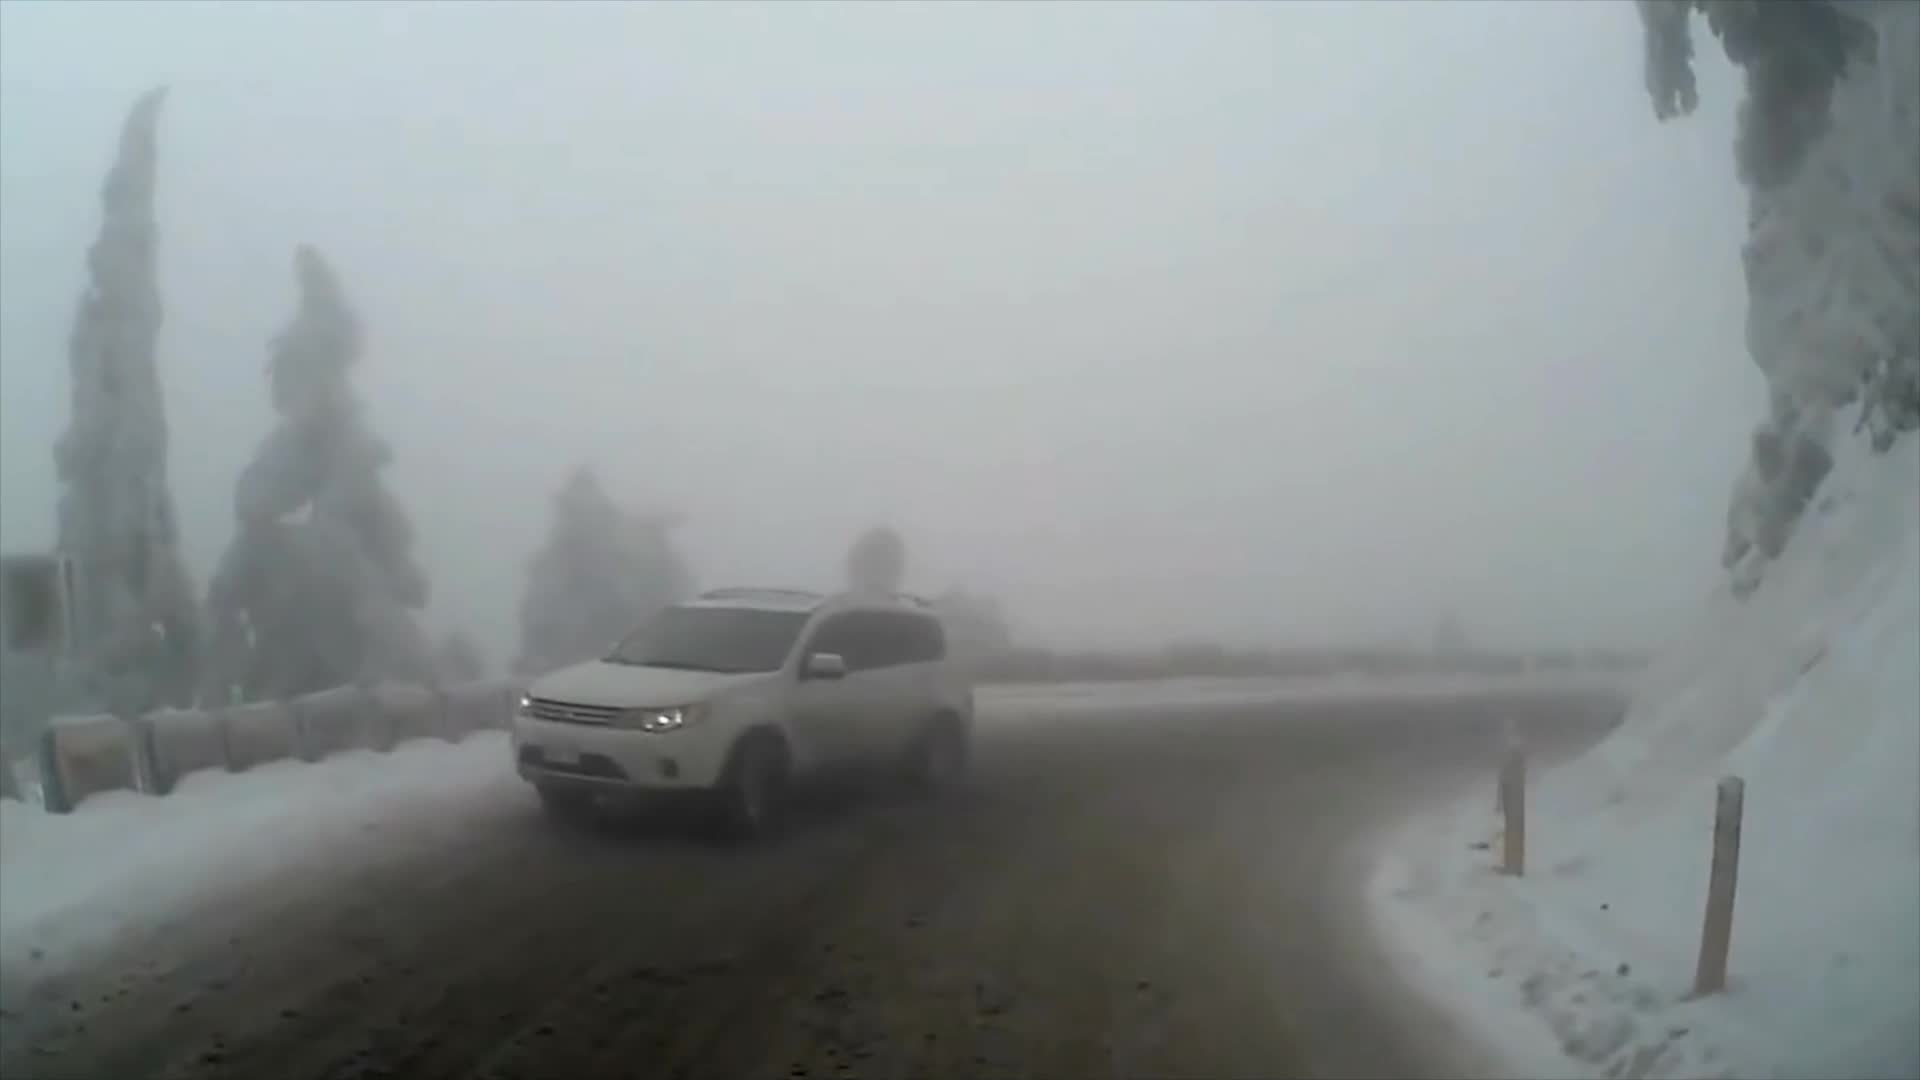vehicle: (504, 583, 973, 844)
